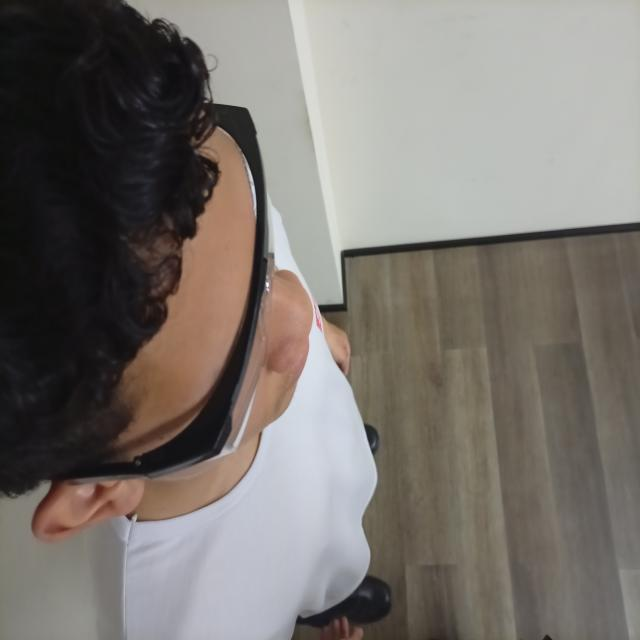oculos-epi: (52, 98, 274, 498)
